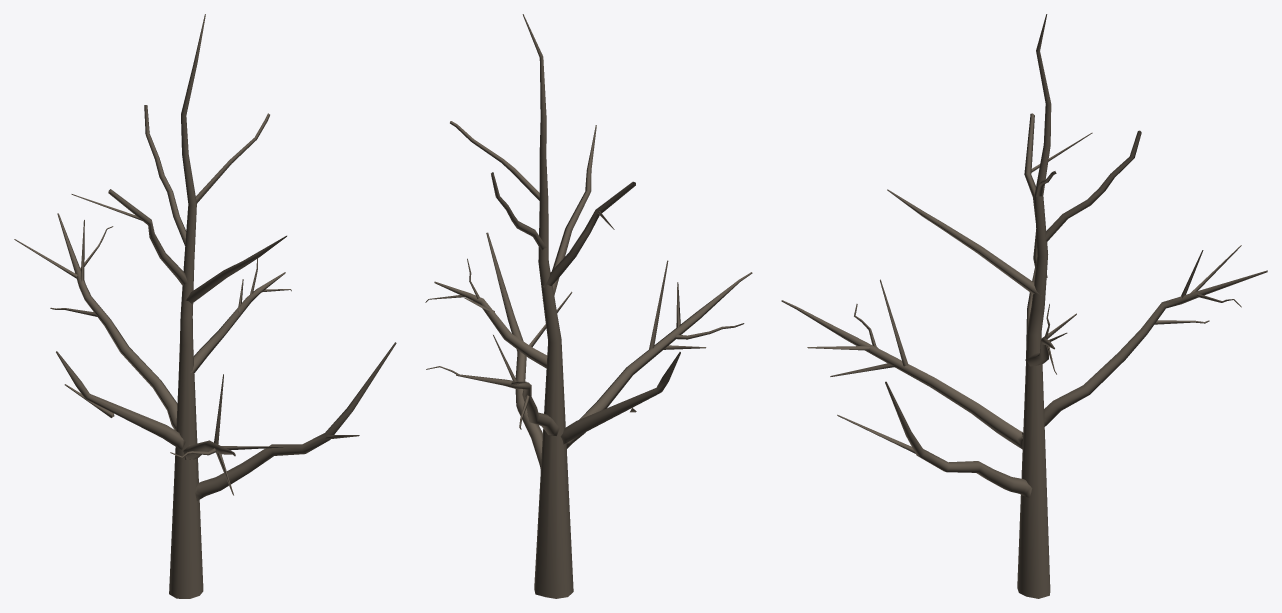
The model's file is erable_mort.glb.
The picture shows the model from 3 angles, left to right: view 1: azimuth 30°, elevation 25°; view 2: azimuth 150°, elevation 25°; view 3: azimuth 270°, elevation 25°; orthographic projection. The views are drawn at different scales.
Parts seen in each view (by area): view 1: Acer_large_3_LOD2; view 2: Acer_large_3_LOD2; view 3: Acer_large_3_LOD2.
Part boxes in pixels (x1,y1,x2,y2): Acer_large_3_LOD2: (14, 14, 396, 598); Acer_large_3_LOD2: (425, 14, 752, 598); Acer_large_3_LOD2: (781, 14, 1267, 598).
Size of the model in its own units: 8.48 by 17.27 by 12.94.
